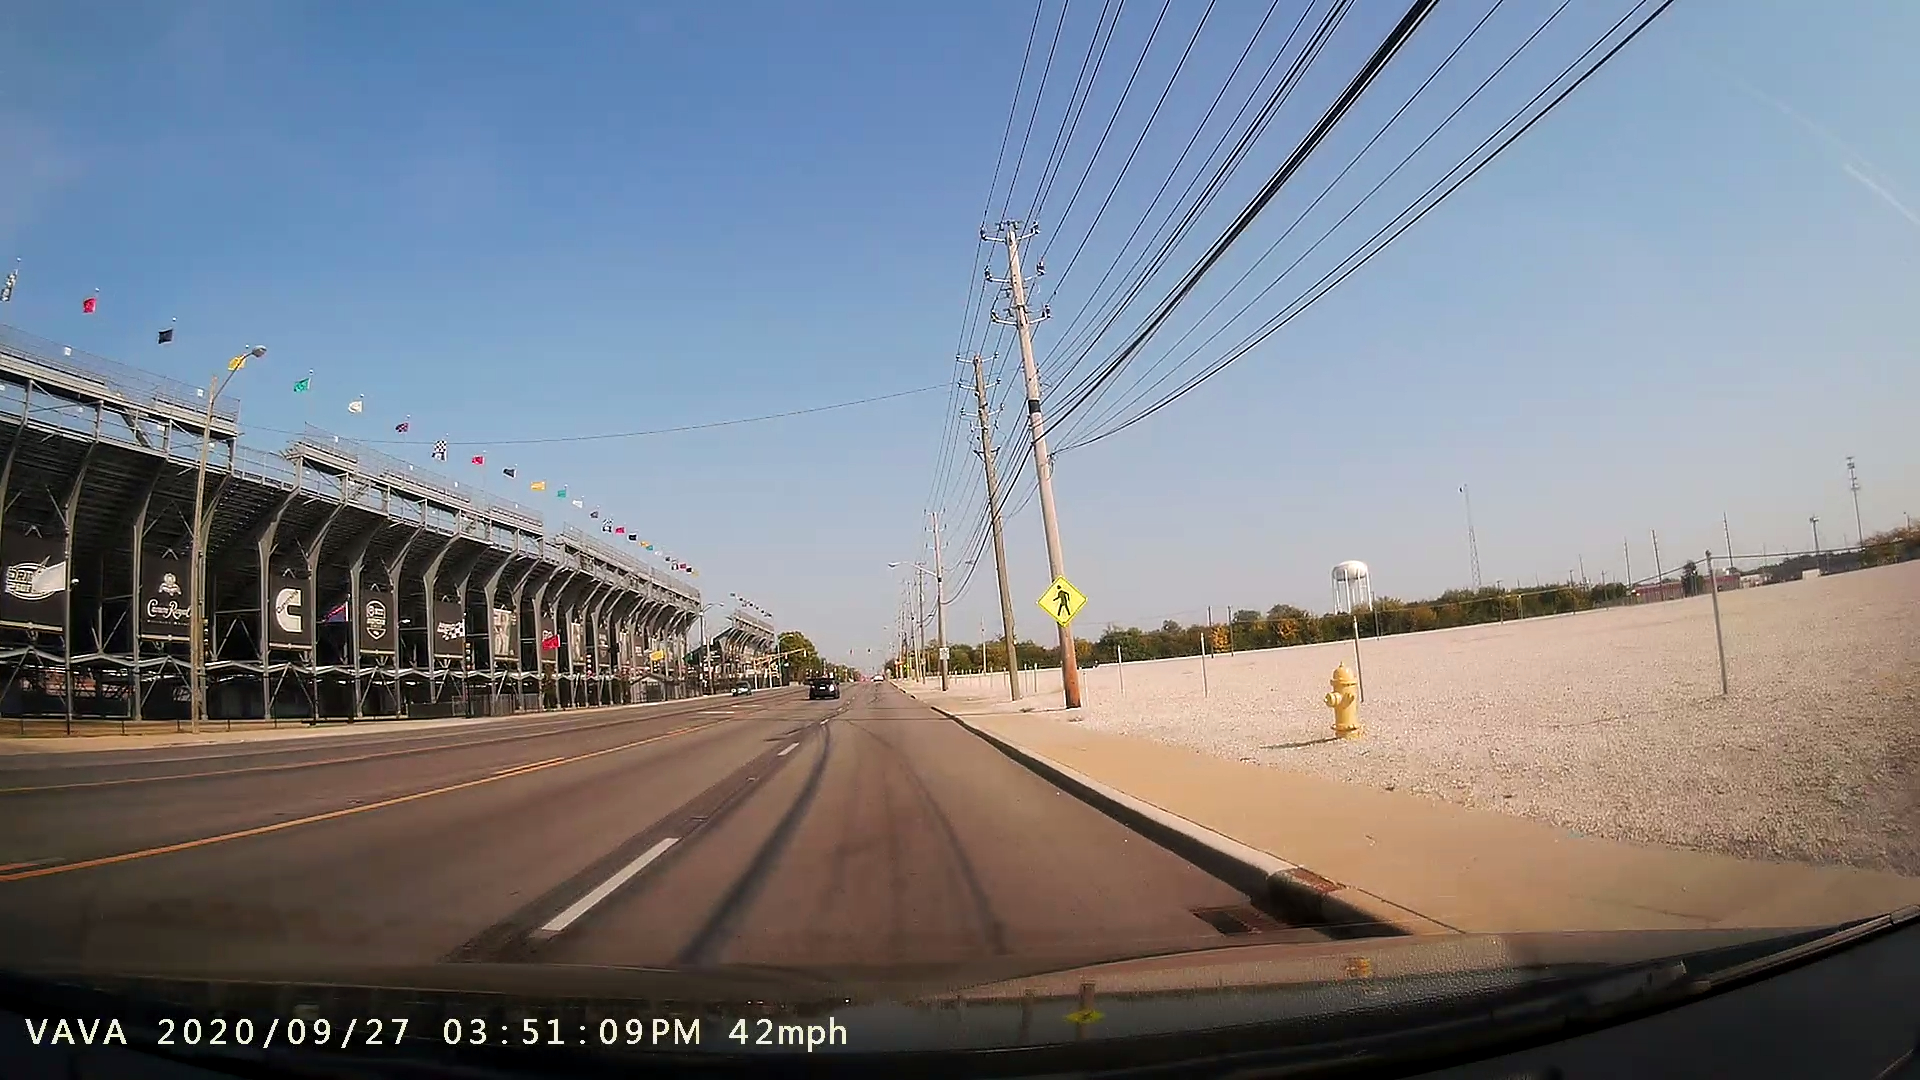fire_hydrant: (1315, 657, 1367, 752)
